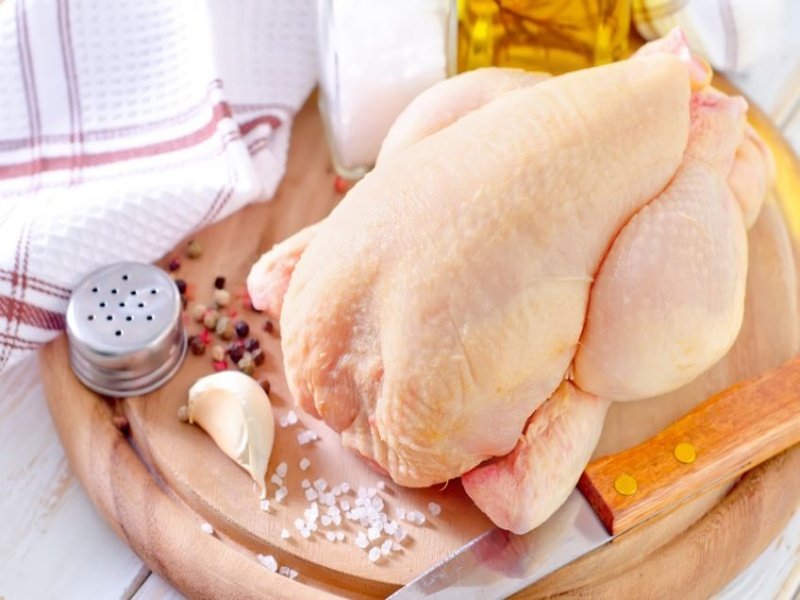Pollo: (245, 26, 755, 538)
